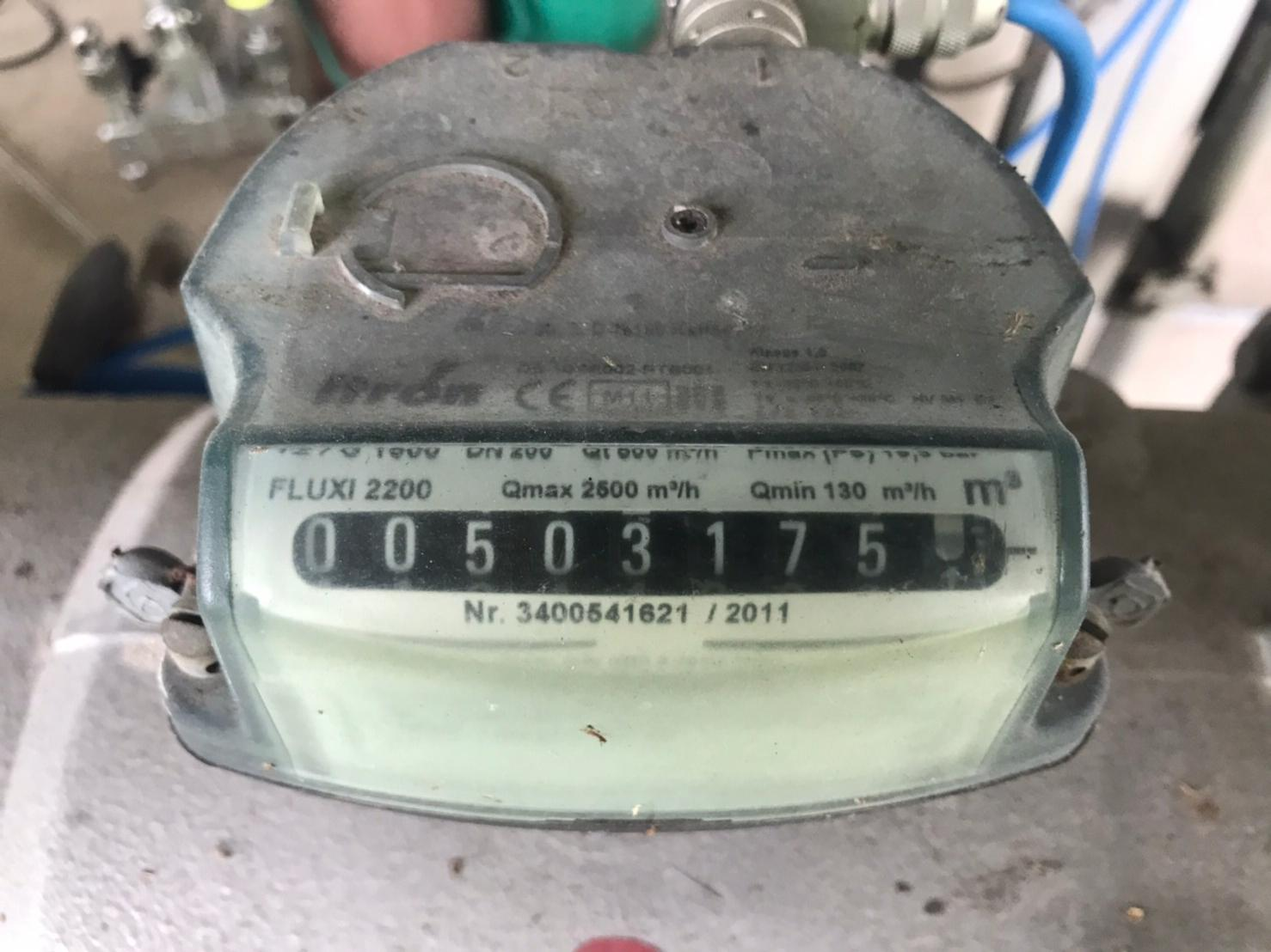analog_dial: (282, 506, 1041, 600)
